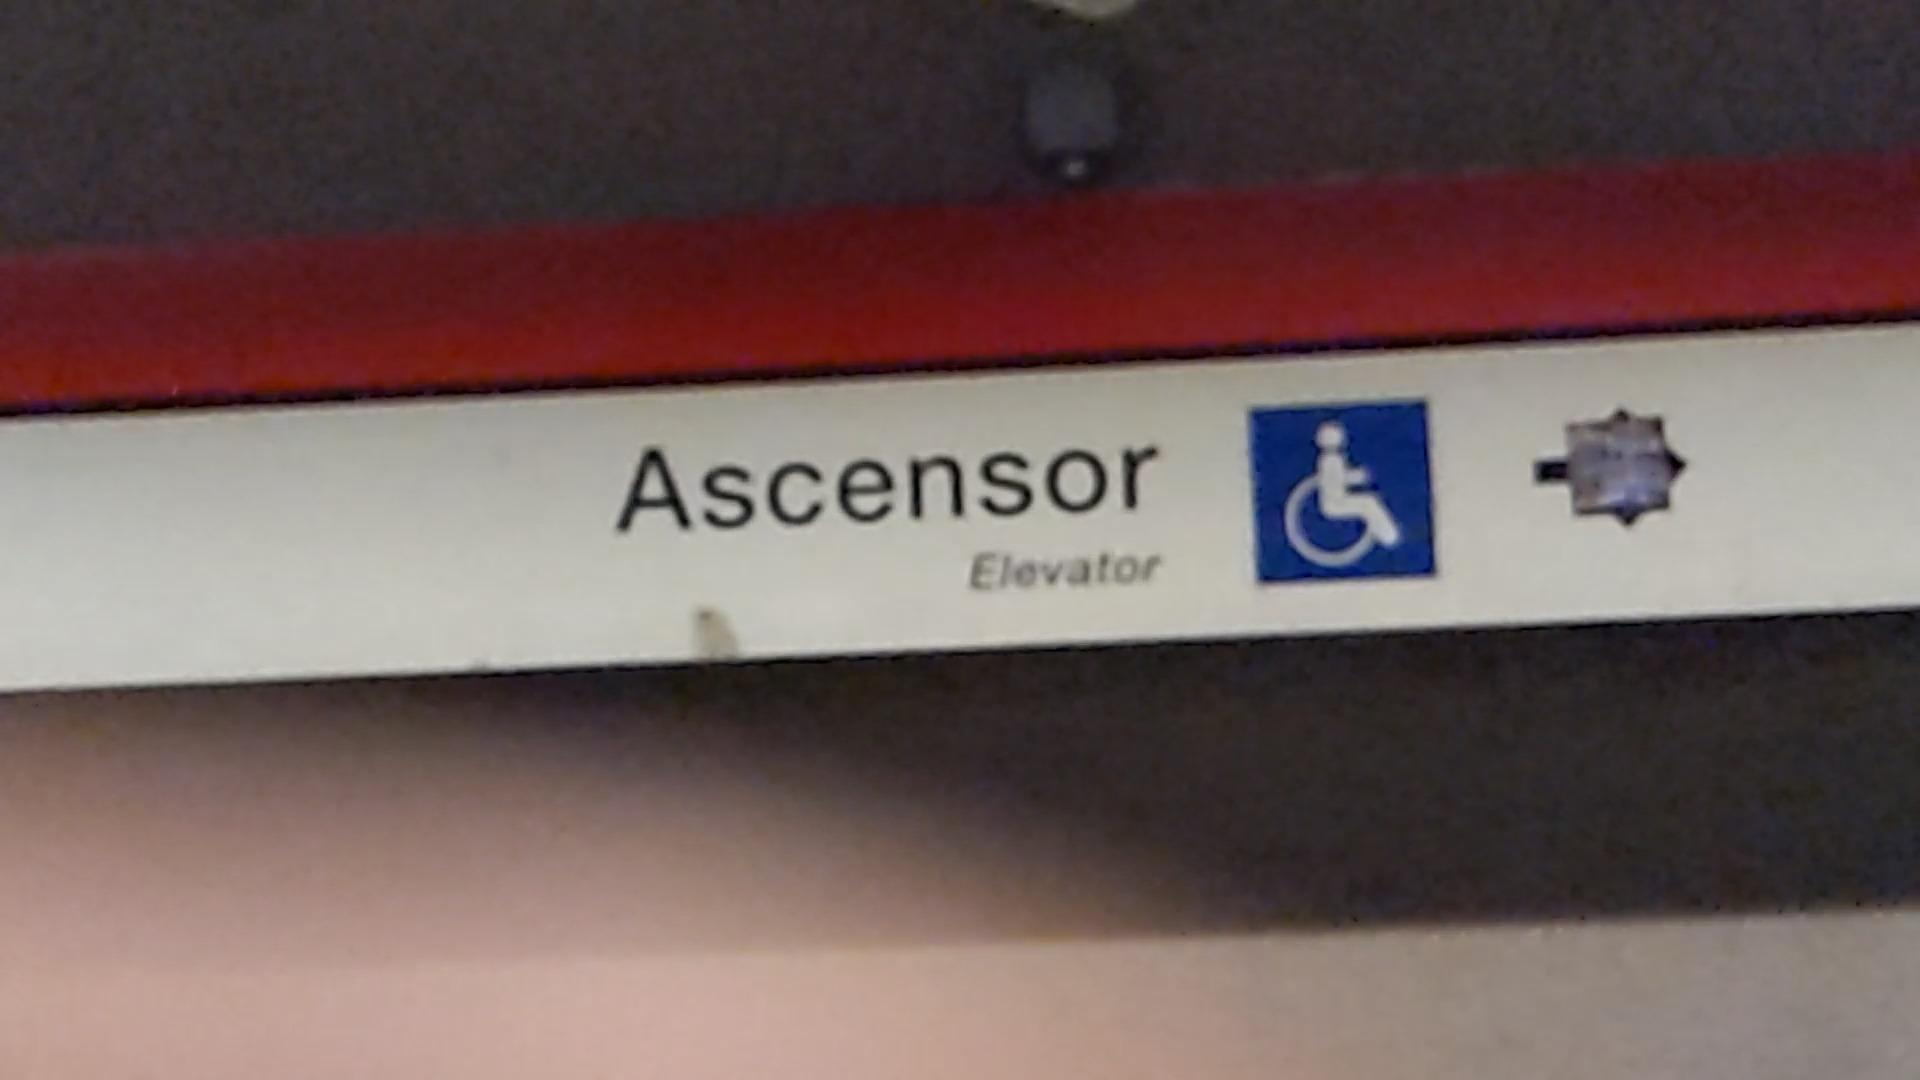handicapped symbol: (1283, 422, 1402, 567)
